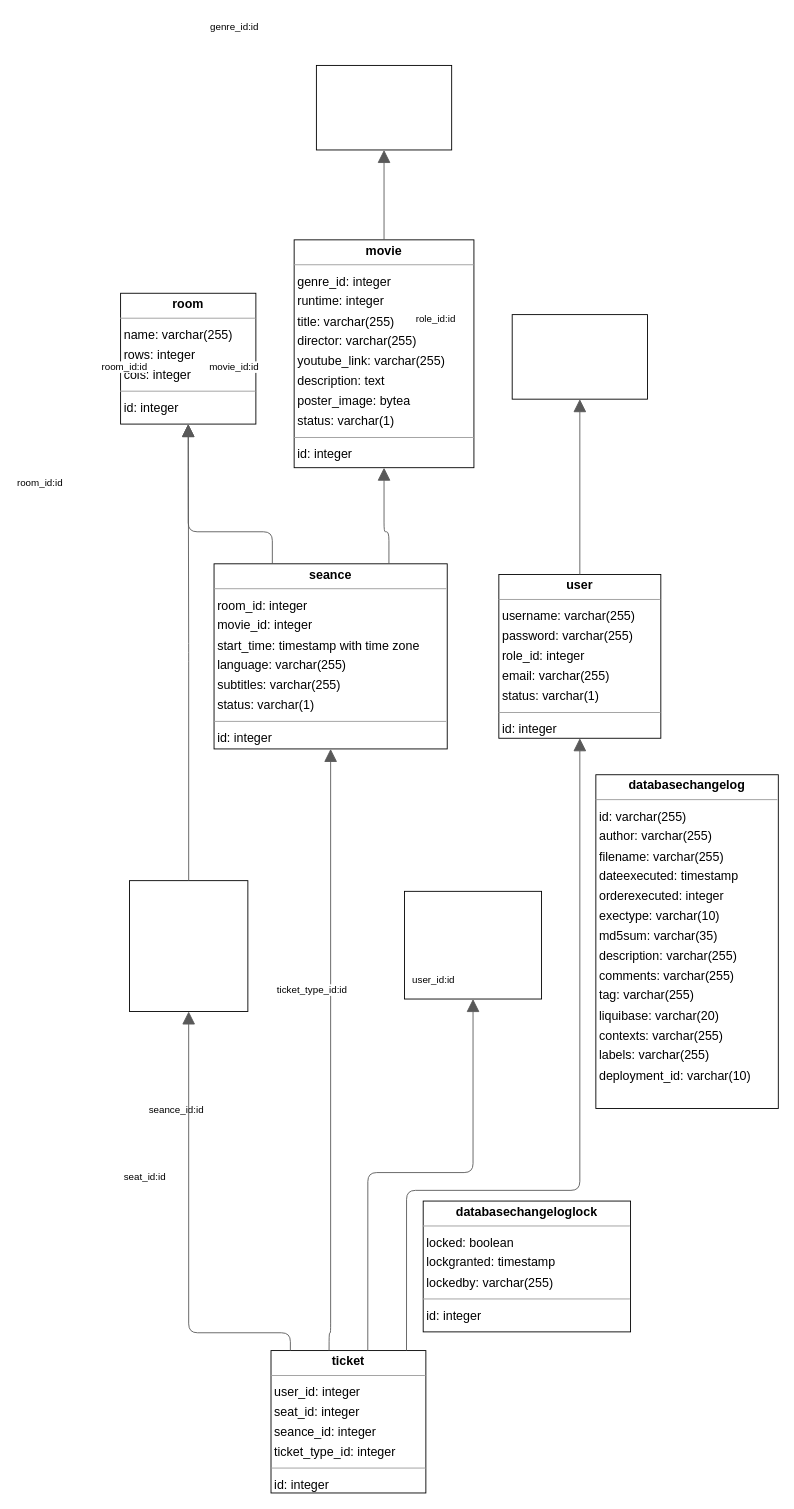
This 794x1509 diagram has some shape labels left out. Each missing label, with the centre of its shape:
genre name: varchar(255) id: integer: point (384, 107)
role name: varchar(255) id: integer: point (579, 356)
seat room_id: integer col: integer row: integer id: integer: point (188, 945)
ticket_type name: varchar(255) price: numeric(10,2) id: integer: point (473, 944)
